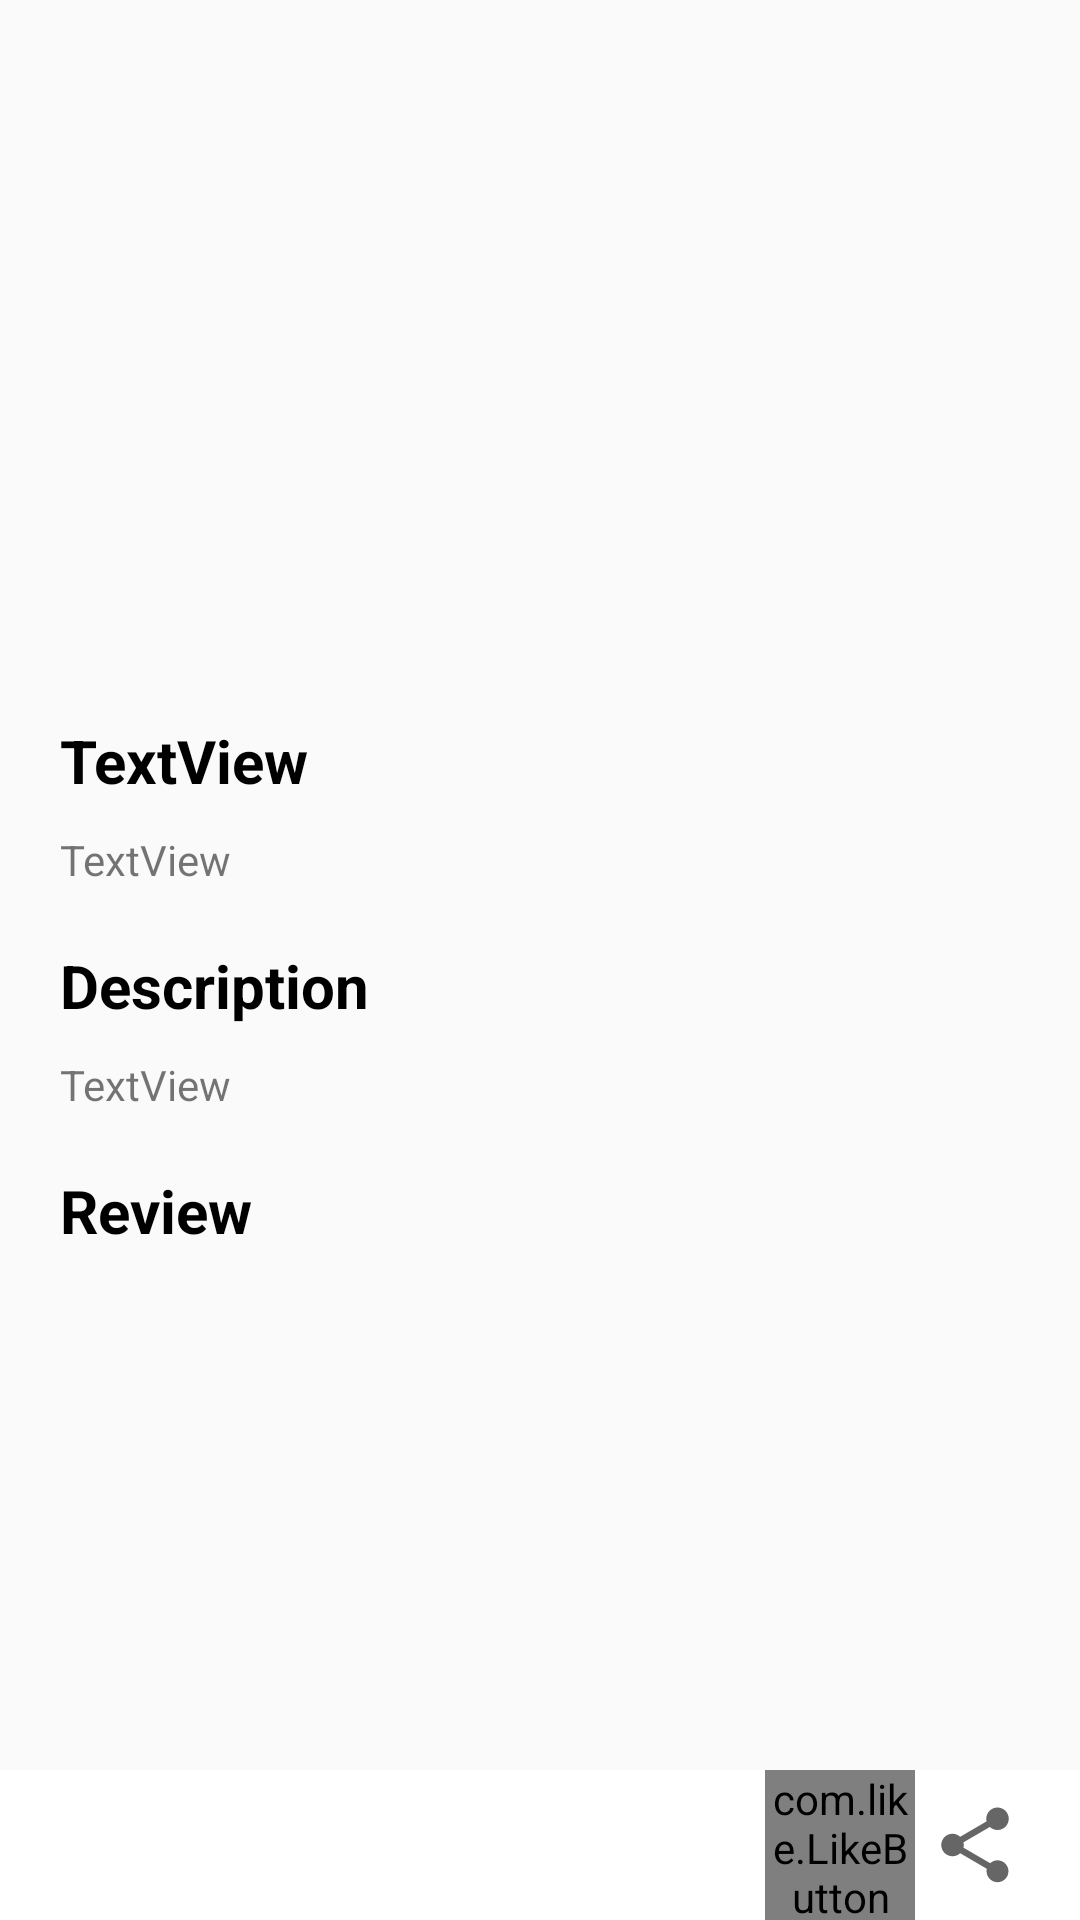

Icon click points for this 1080 x 1920 phone screenshot, format (x=x, y=y):
sharebutton: (x=975, y=1845)
